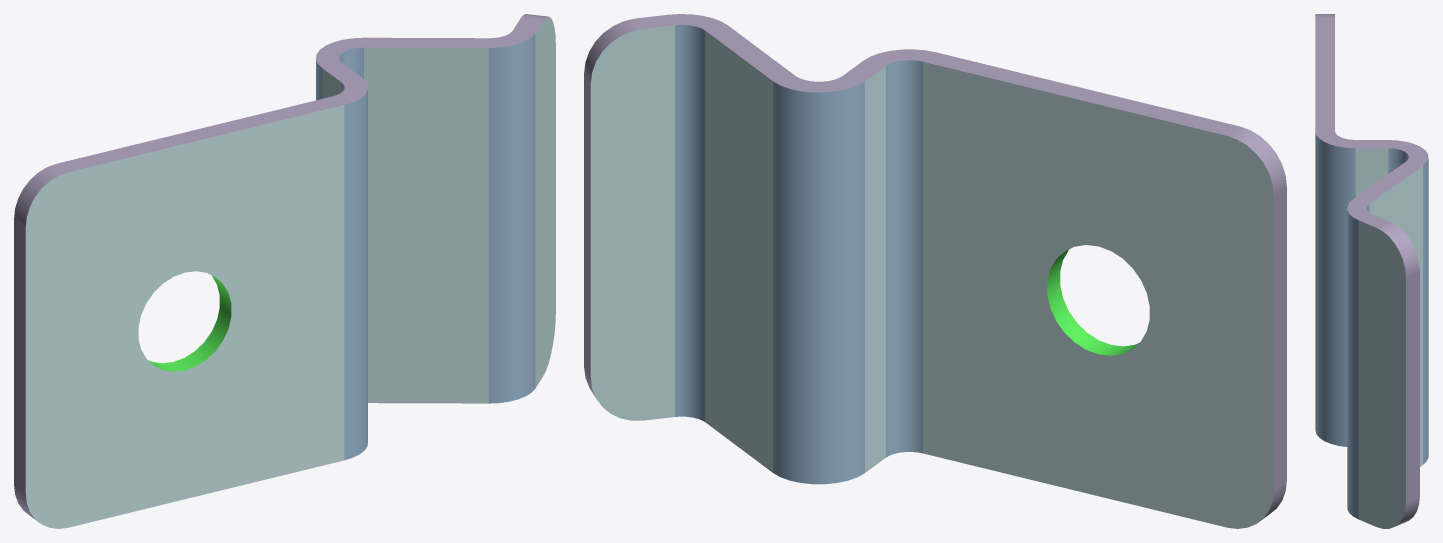
Rendered from ALU_060_Door_PC_Panel_Clip_0-1-1-1_1_colored.glb.
3 views of the same model, side by side, from view 1: azimuth 30°, elevation 25°; view 2: azimuth 150°, elevation 25°; view 3: azimuth 270°, elevation 25° (orthographic). The views are drawn at different scales.
Parts seen in each view (by area): view 1: Featured solid; view 2: Featured solid; view 3: Featured solid.
Boxes of the visible parts, box(x1,y1,x2,y2) form: Featured solid: box(14, 14, 555, 528); Featured solid: box(584, 14, 1286, 528); Featured solid: box(1315, 14, 1428, 528).
Size of the model in its own units: 43.66 by 25.4 by 8.7.
